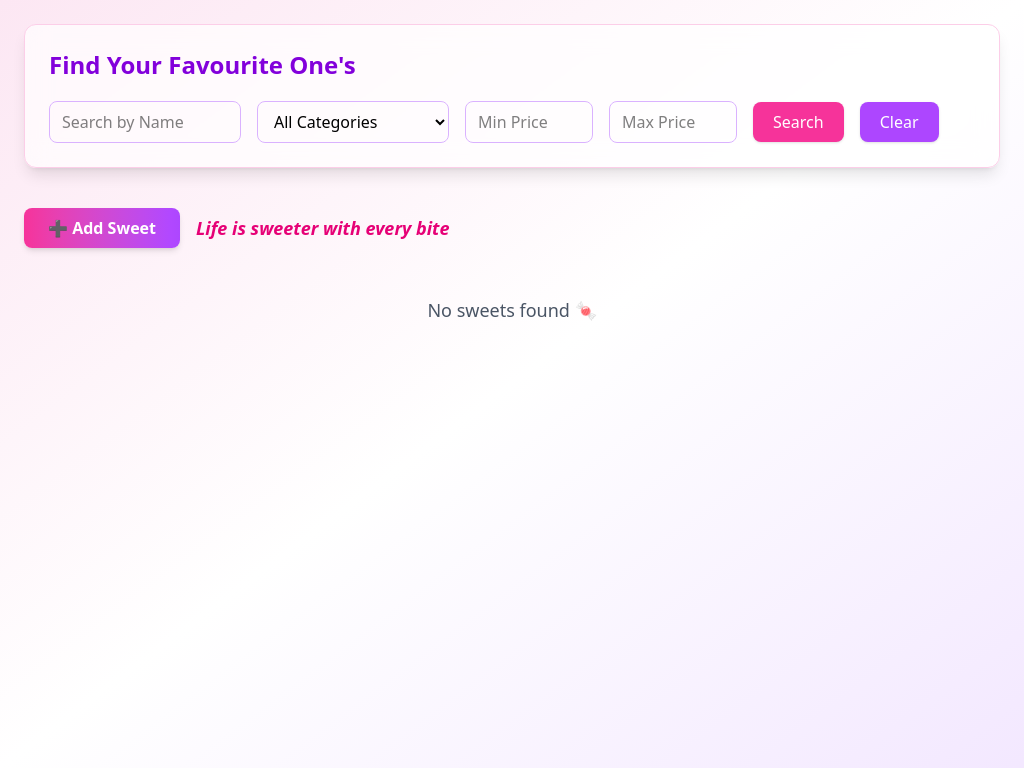
Test: DashBoard Component › clears filters and refetches sweets
This screenshot has width=1024, height=768.
Type "lad" into the field with placeholder "Search by Name" at (145, 122), box x1=49 y1=101 x2=241 y2=143
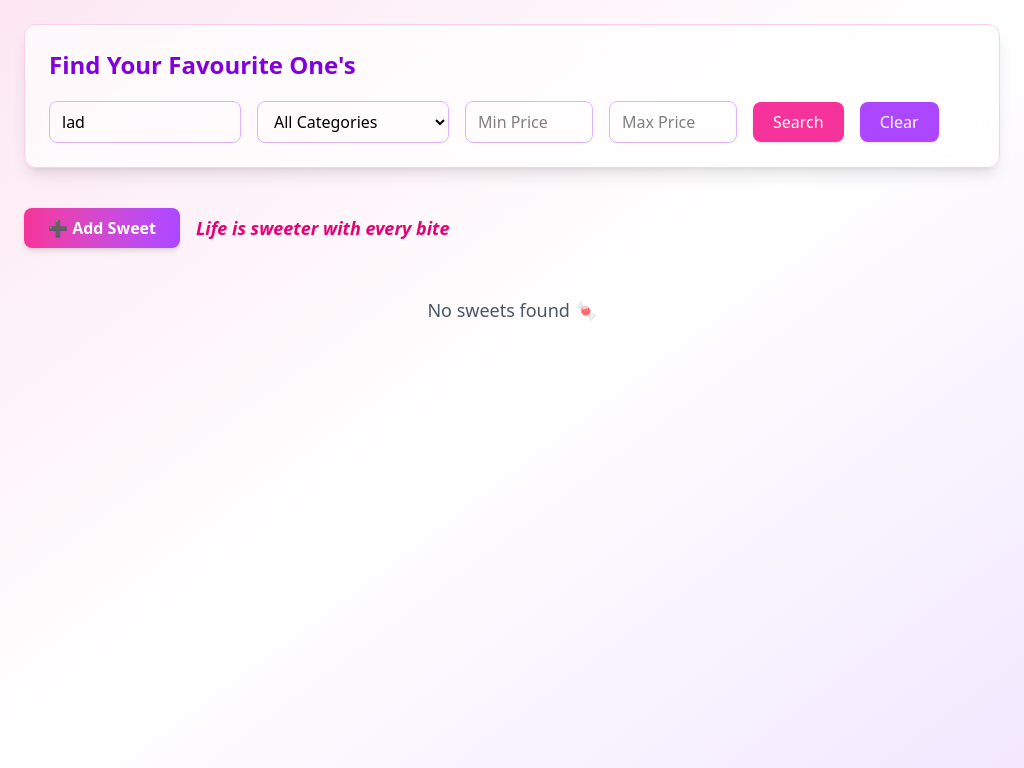
Click the button "Clear" at (899, 122), box x1=860 y1=102 x2=938 y2=142
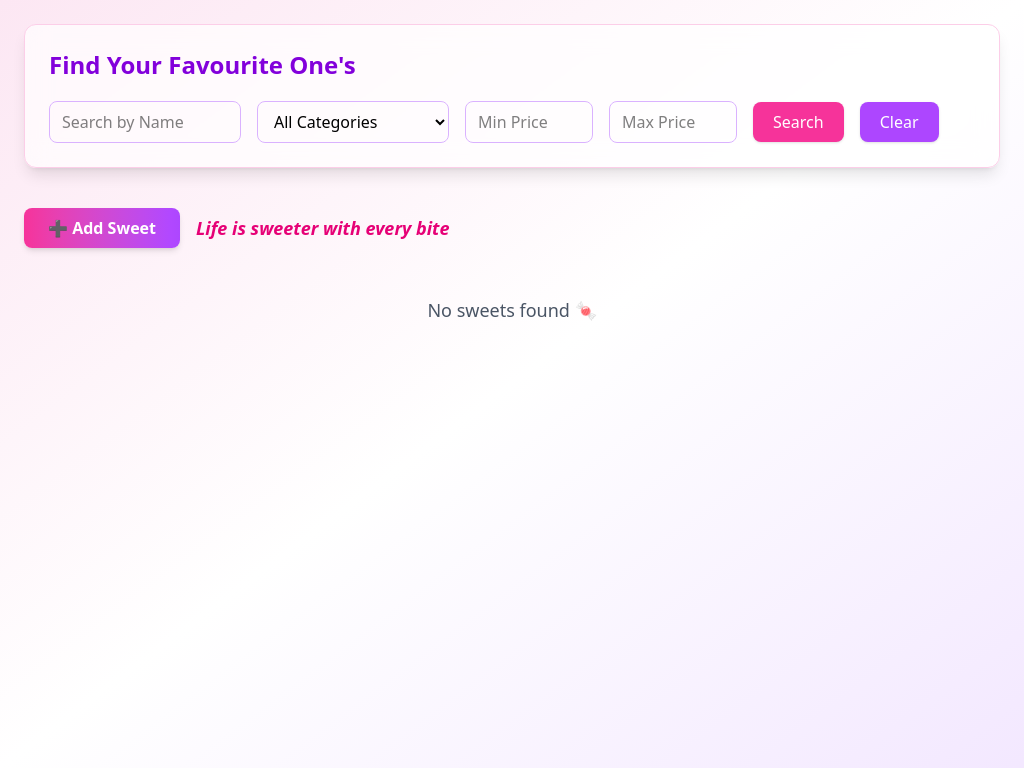
Now the field with placeholder "Search by Name" is empty, box x1=49 y1=101 x2=241 y2=143
